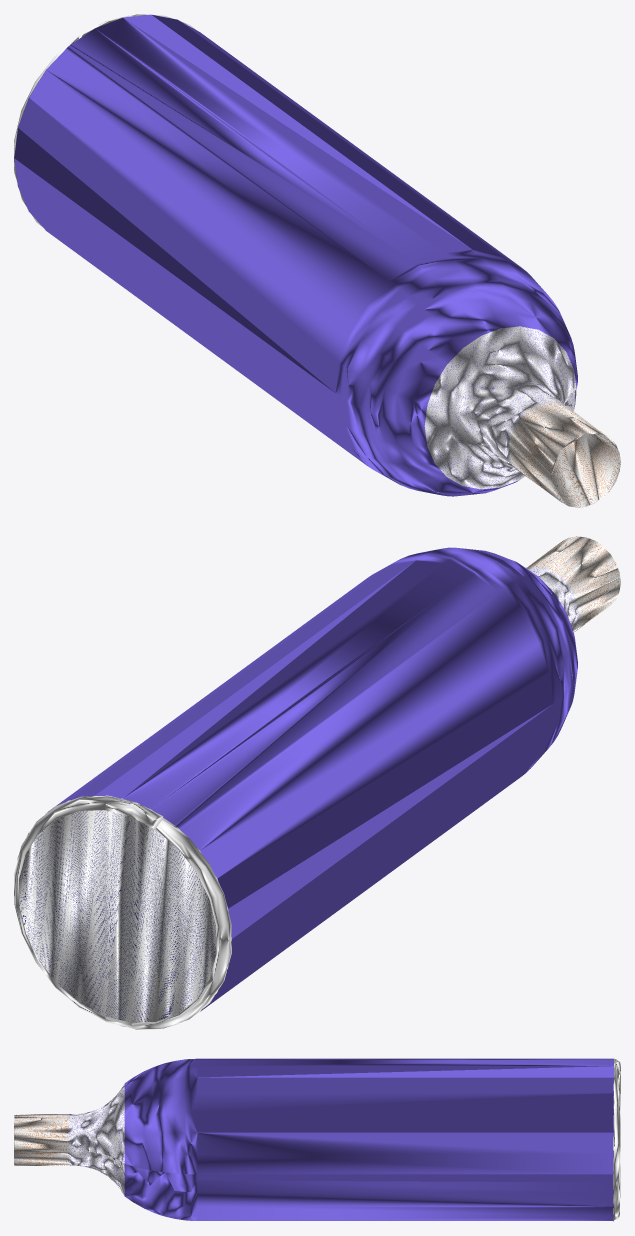
The model's file is model_align.obj.
3 views of the same model, one above another, from view 1: azimuth 30°, elevation 25°; view 2: azimuth 150°, elevation 25°; view 3: azimuth 270°, elevation 25° (orthographic). The views are drawn at different scales.
Size of the model in its own units: 0.0692 by 0.0692 by 0.2578.
